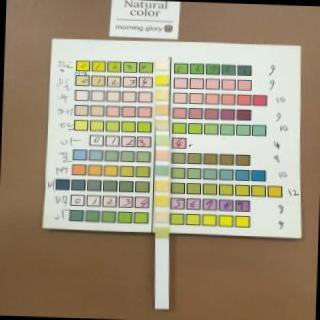mark: (153, 58, 168, 70), (155, 228, 169, 240), (154, 211, 168, 223), (154, 195, 168, 207), (155, 180, 169, 192), (156, 165, 170, 177), (156, 150, 170, 162), (154, 74, 168, 86), (156, 135, 168, 147), (156, 120, 168, 132), (156, 105, 168, 116), (155, 92, 168, 102)
